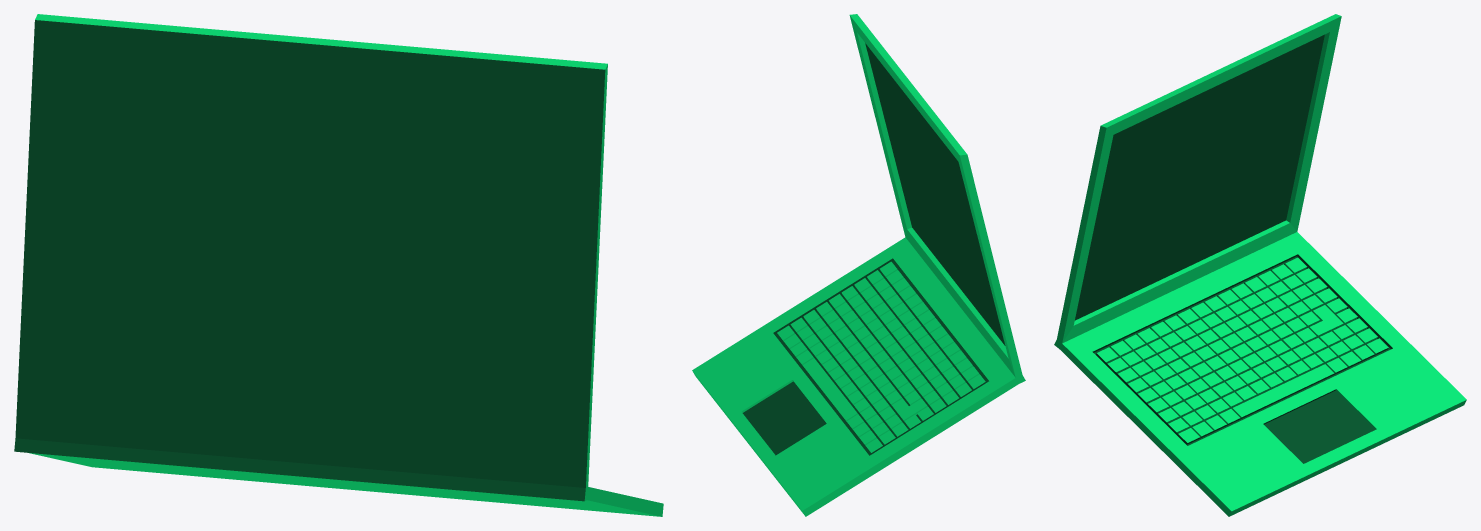
The model's file is icon_app.glb.
The picture shows the model from 3 angles, left to right: view 1: azimuth 30°, elevation 25°; view 2: azimuth 150°, elevation 25°; view 3: azimuth 270°, elevation 25°; orthographic projection. The views are drawn at different scales.
Parts seen in each view (by area): view 1: icon_app1; view 2: icon_app1; view 3: icon_app1.
Part boxes in pixels (x1=…): icon_app1: x1=14, y1=14, x2=663, y2=516; icon_app1: x1=692, y1=14, x2=1025, y2=516; icon_app1: x1=1054, y1=14, x2=1466, y2=516.
Bounding box in the file's own units: 0.3016 × 0.2703 × 0.2947.
